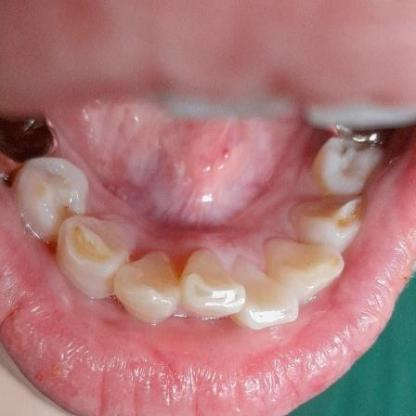Crowding: (180, 250, 296, 334)
